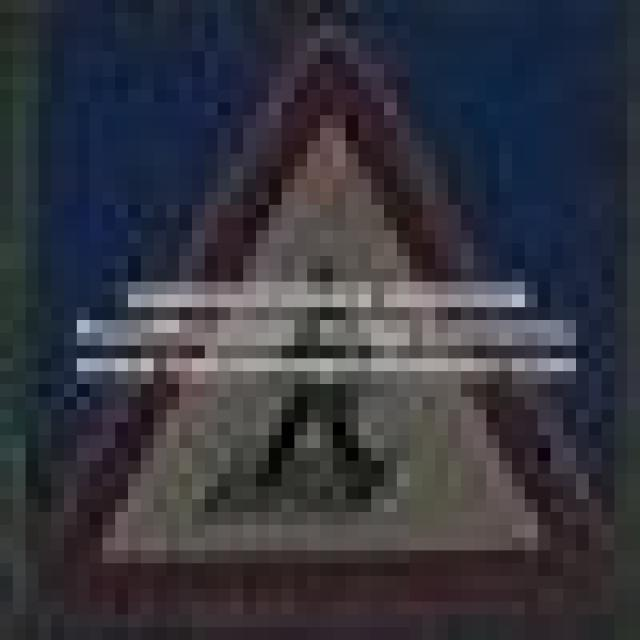pass_either_side: (26, 26, 602, 602)
